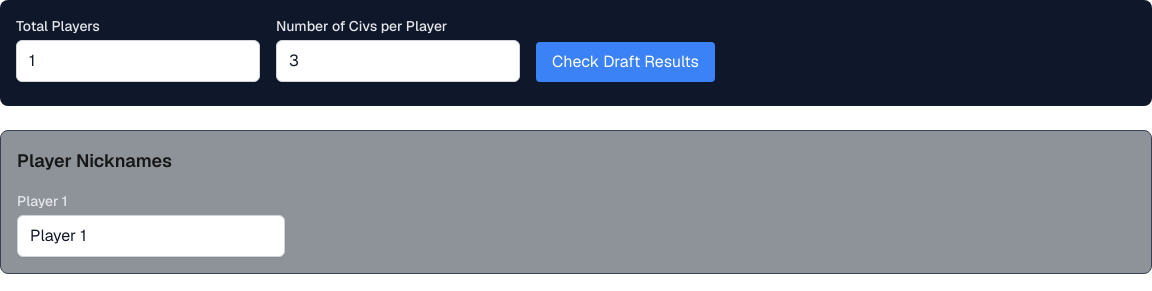
Test case: Players › should show error when total civs needed exceeds available
This screenshot has width=1152, height=291.
Step 1. Replace the text in the number field labelled "Total Players" with "3" → (138, 61), box [16,40,260,82]
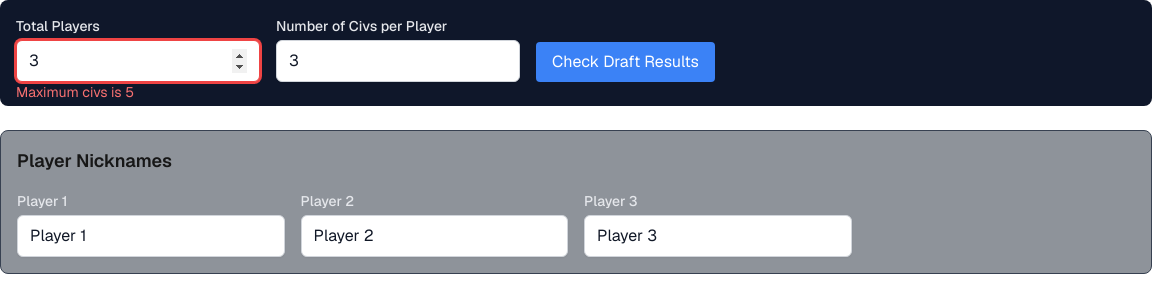
expect the text "Maximum civs is 5" is shown: met, box [16,82,134,102]
